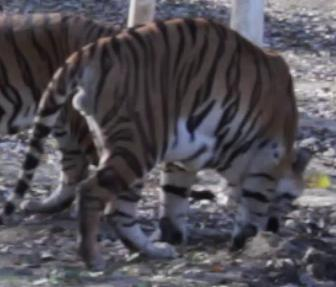tiger: (0, 15, 301, 268)
